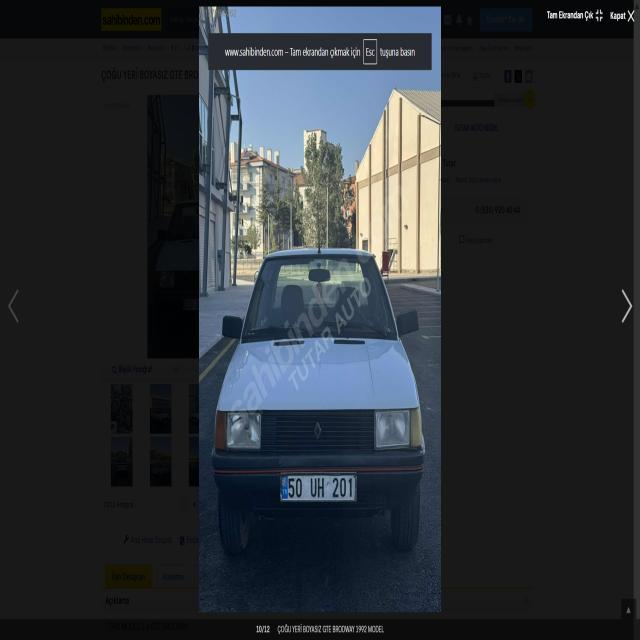renault: (304, 417, 333, 449)
